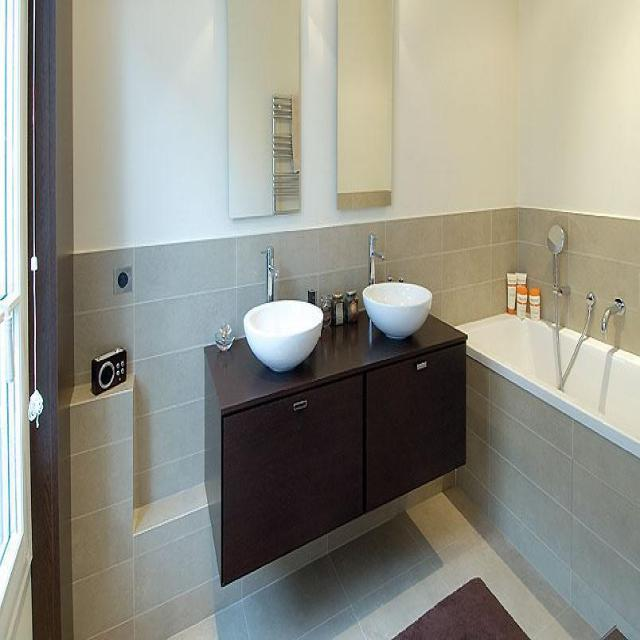other: (253, 296, 316, 352), (498, 265, 541, 324)
